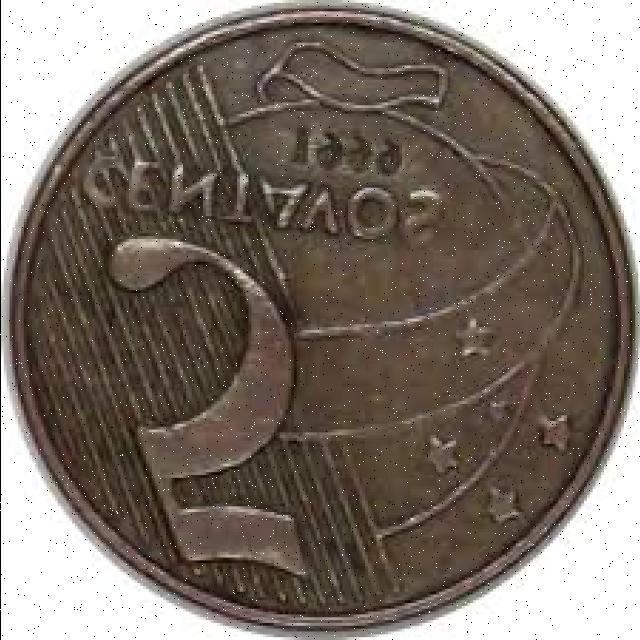5 cent: (5, 5, 633, 624)
